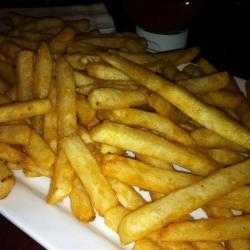fries: (2, 30, 236, 238)
